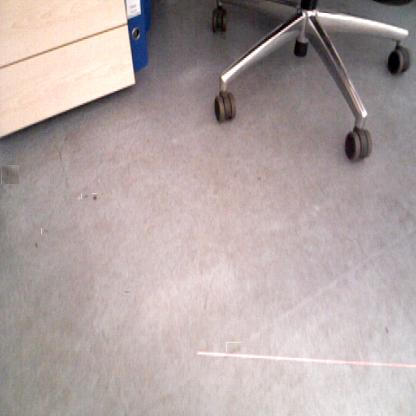mark: (1, 164, 19, 184), (226, 342, 241, 353), (203, 295, 209, 311), (384, 324, 390, 336), (33, 239, 39, 251), (123, 287, 131, 295), (42, 228, 50, 235), (91, 193, 97, 202), (82, 193, 89, 200), (255, 176, 261, 182)
